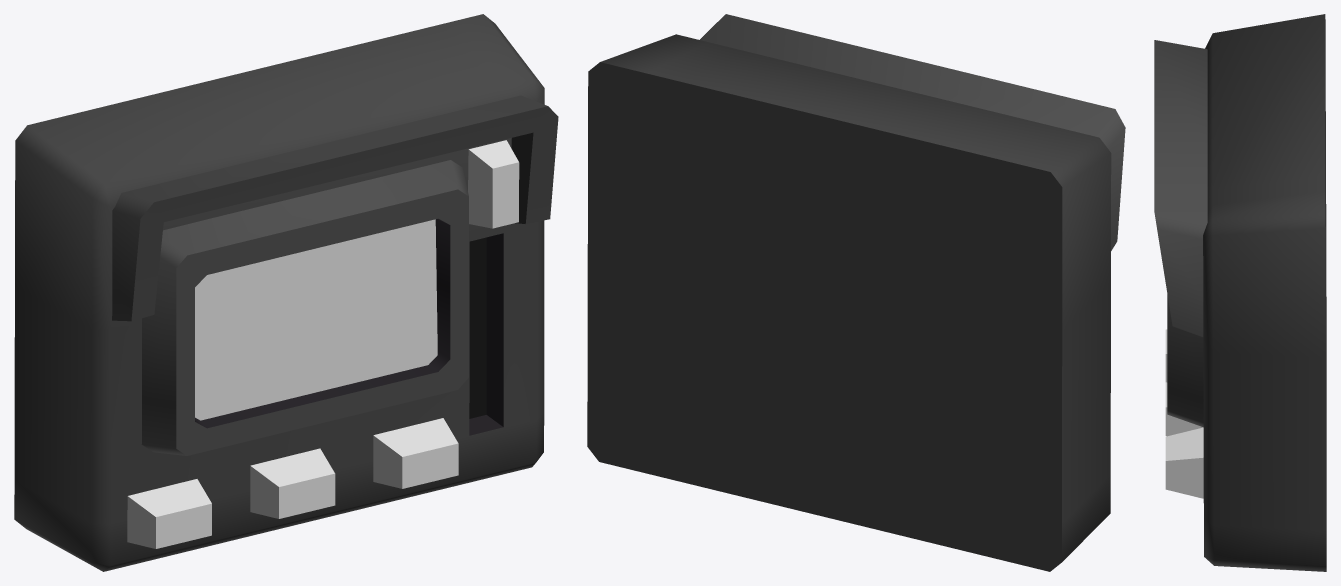
The model's file is APC.fbx.
3 renders of one model, left to right at view 1: azimuth 30°, elevation 25°; view 2: azimuth 150°, elevation 25°; view 3: azimuth 270°, elevation 25°, orthographic. The views are drawn at different scales.
Visible parts, largest first — view 1: APC; view 2: APC; view 3: APC.
Boxes of the visible parts, <box> form: APC: <box>14,14,558,571</box>; APC: <box>587,14,1125,571</box>; APC: <box>1154,14,1326,571</box>.
Size of the model in its own units: 0.5012 by 0.4031 by 0.1752.
